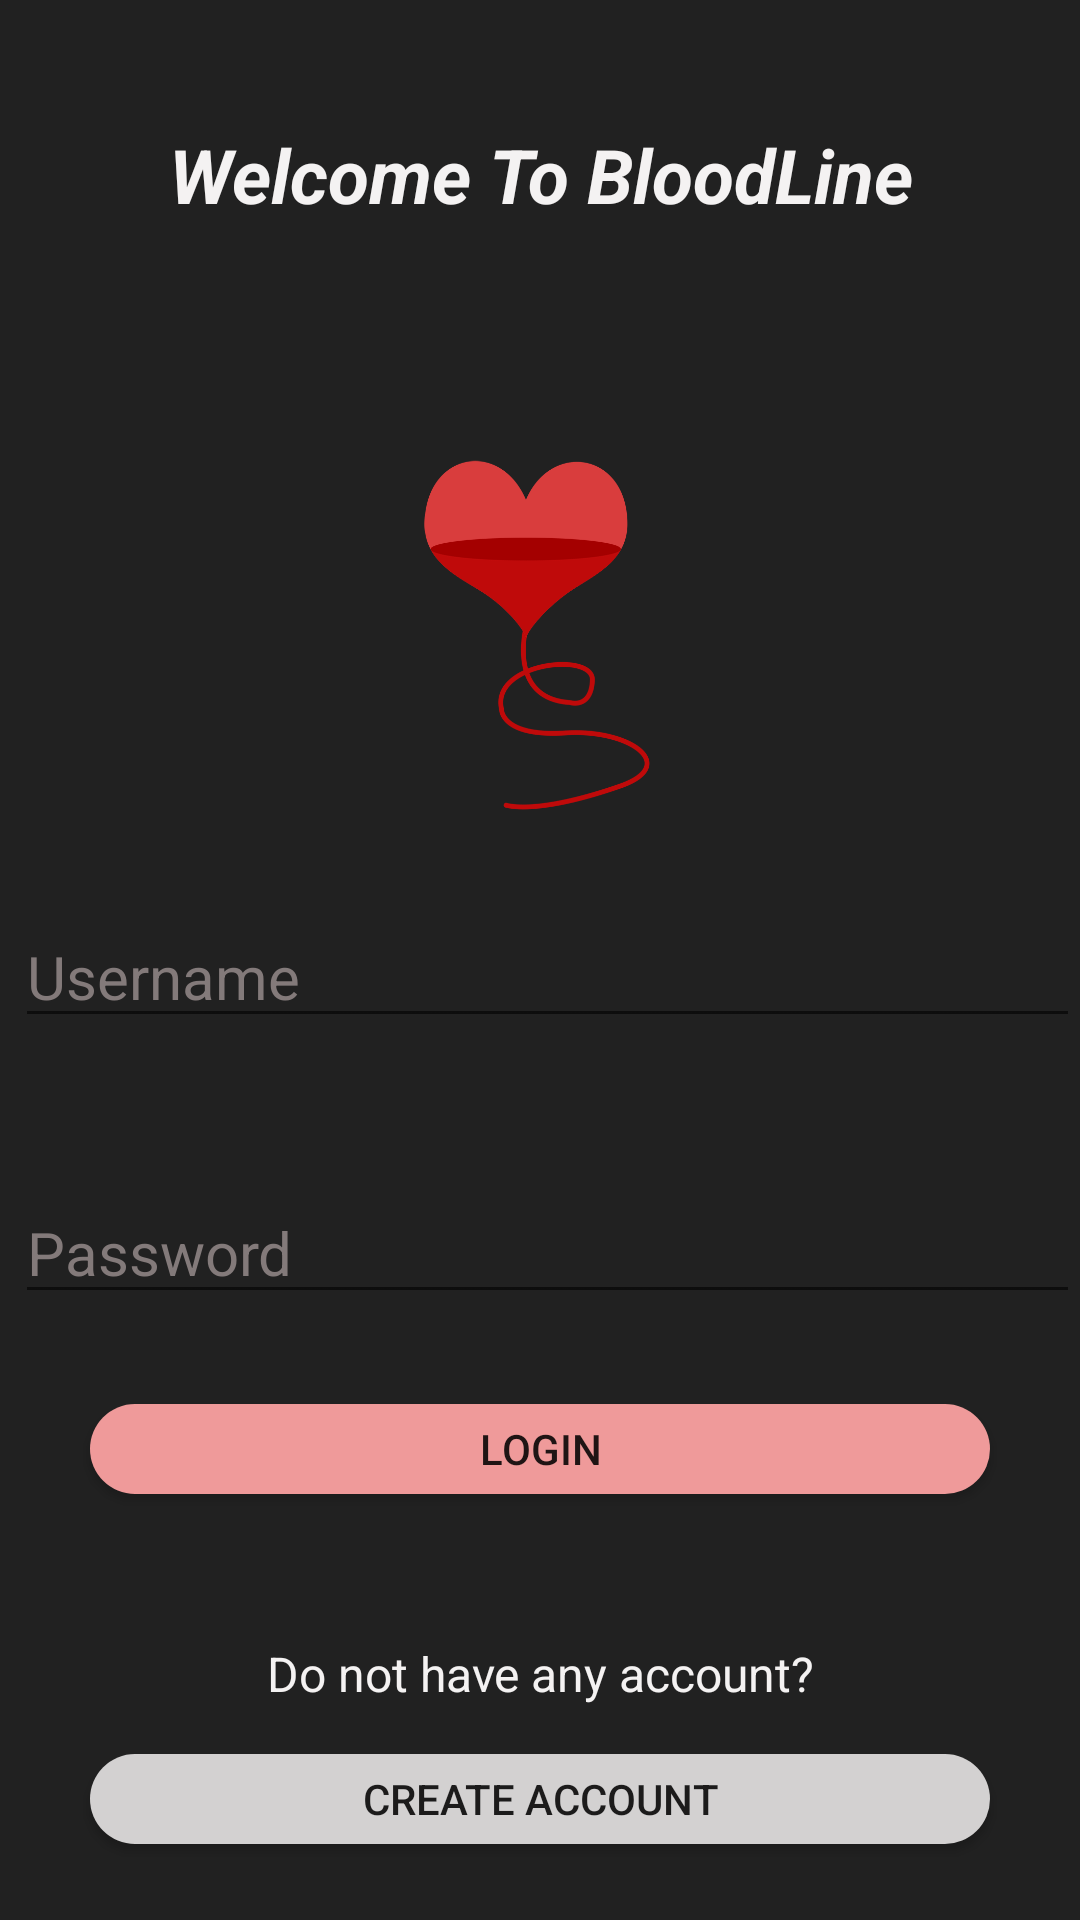

Icons on this 1080*1920 Android screen, each with the point to tap as (x=x, y=y):
heart: (x=537, y=635)
